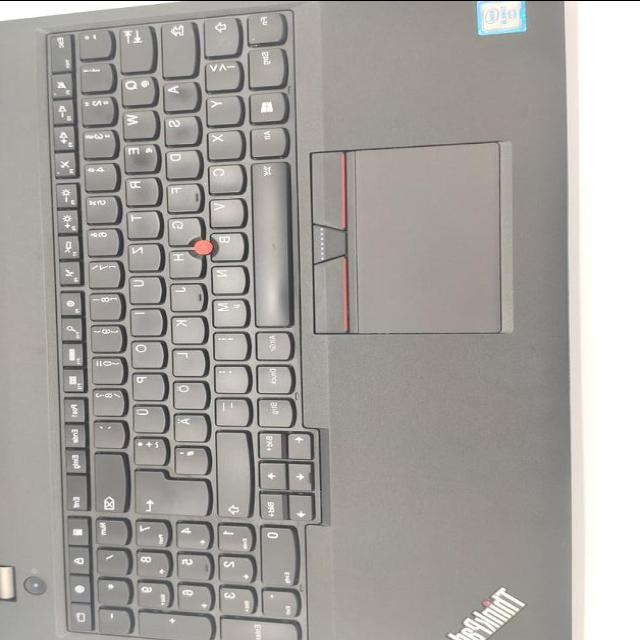0: (87, 352, 121, 381)
1: (76, 60, 110, 89)
2: (77, 92, 113, 122)
3: (78, 125, 114, 155)
4: (80, 160, 114, 188)
5: (81, 192, 117, 220)
6: (83, 225, 117, 253)
7: (84, 257, 118, 285)
8: (85, 289, 119, 317)
9: (86, 321, 120, 349)
a: (158, 78, 196, 108)
accent: (88, 417, 124, 446)
ae: (169, 409, 205, 439)
alt-left: (246, 123, 284, 155)
altgr-right: (251, 328, 289, 358)
b: (206, 228, 242, 258)
c: (204, 161, 240, 191)
caret: (73, 26, 109, 55)
comma: (210, 329, 246, 358)
d: (162, 146, 198, 176)
del: (89, 449, 125, 509)
e: (119, 140, 155, 170)
enter: (128, 467, 208, 513)
f: (163, 180, 199, 210)
g: (164, 214, 200, 243)
h: (166, 246, 200, 276)
hash: (170, 442, 206, 471)
i: (125, 305, 161, 333)
j: (165, 280, 203, 309)
k: (167, 313, 203, 342)
keyboard: (41, 1, 324, 640)
l: (168, 345, 204, 374)
less: (201, 57, 239, 89)
m: (208, 295, 244, 324)
minus: (211, 393, 247, 423)
n: (207, 262, 243, 291)
o: (126, 336, 162, 365)
oe: (169, 378, 205, 406)
p: (127, 369, 163, 398)
plus: (128, 433, 164, 462)
point: (211, 362, 247, 391)
q: (118, 72, 154, 104)
r: (121, 174, 157, 204)
s: (159, 112, 197, 142)
shift-left: (199, 13, 237, 54)
shift-lock: (158, 17, 194, 75)
shift-right: (211, 427, 249, 515)
space: (248, 157, 289, 325)
ss: (88, 385, 122, 414)
strg-left: (244, 44, 284, 86)
strg-right: (253, 395, 291, 425)
t: (122, 207, 158, 235)
tab: (116, 22, 152, 70)
u: (125, 272, 161, 301)
ue: (128, 401, 164, 430)
v: (204, 195, 242, 225)
w: (118, 106, 154, 136)
x: (203, 127, 241, 157)
y: (202, 93, 240, 123)
z: (124, 240, 160, 268)
